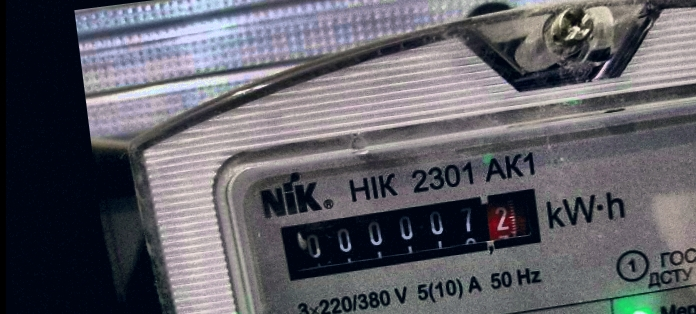0: (304, 230, 324, 259), (396, 212, 416, 241), (366, 217, 385, 247), (335, 224, 354, 253), (428, 208, 446, 237)
2: (493, 204, 512, 232)
7: (458, 203, 477, 234)
screen: (268, 180, 555, 287)
